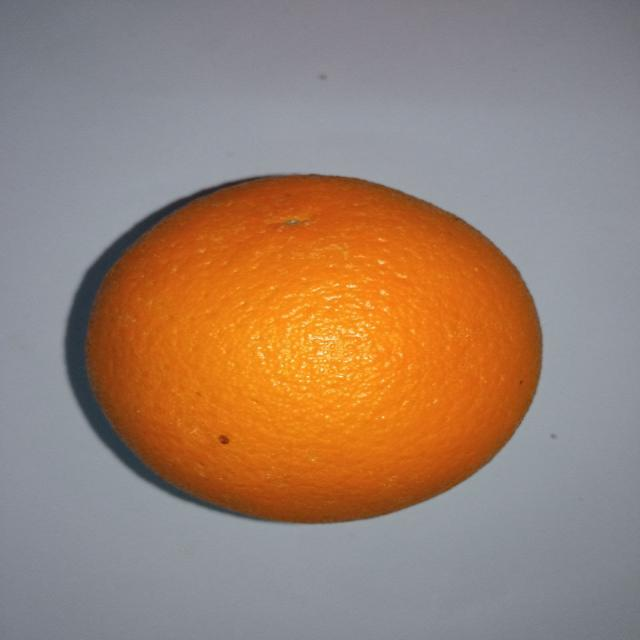fresh_orange: (86, 175, 544, 524)
